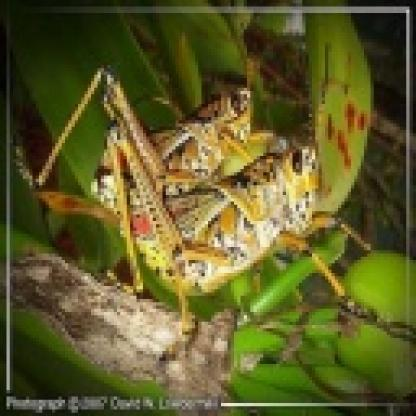grasshopper: (81, 149, 358, 304), (44, 68, 290, 193)
